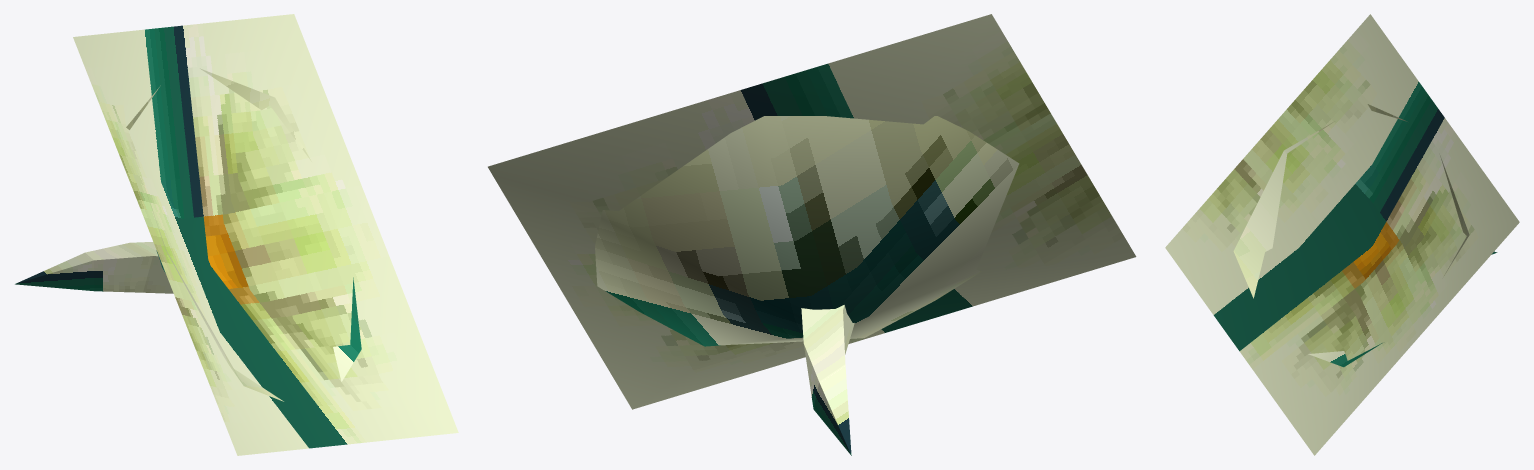
The model's file is flw_cosmos_wt_cap.dae.
3 renders of one model, left to right at view 1: azimuth 30°, elevation 25°; view 2: azimuth 150°, elevation 25°; view 3: azimuth 270°, elevation 25°, orthographic. The views are drawn at different scales.
Parts seen in each view (by area): view 1: flw_cosmos_wt_cap; view 2: flw_cosmos_wt_cap; view 3: flw_cosmos_wt_cap.
Part boxes in pixels (x1,y1,x2,y2): flw_cosmos_wt_cap: (15,14,458,455); flw_cosmos_wt_cap: (488,14,1136,455); flw_cosmos_wt_cap: (1165,14,1519,455).
Size of the model in its own units: 8.81 by 10.98 by 10.98.
Materials: 1 (1 with a texture image).
